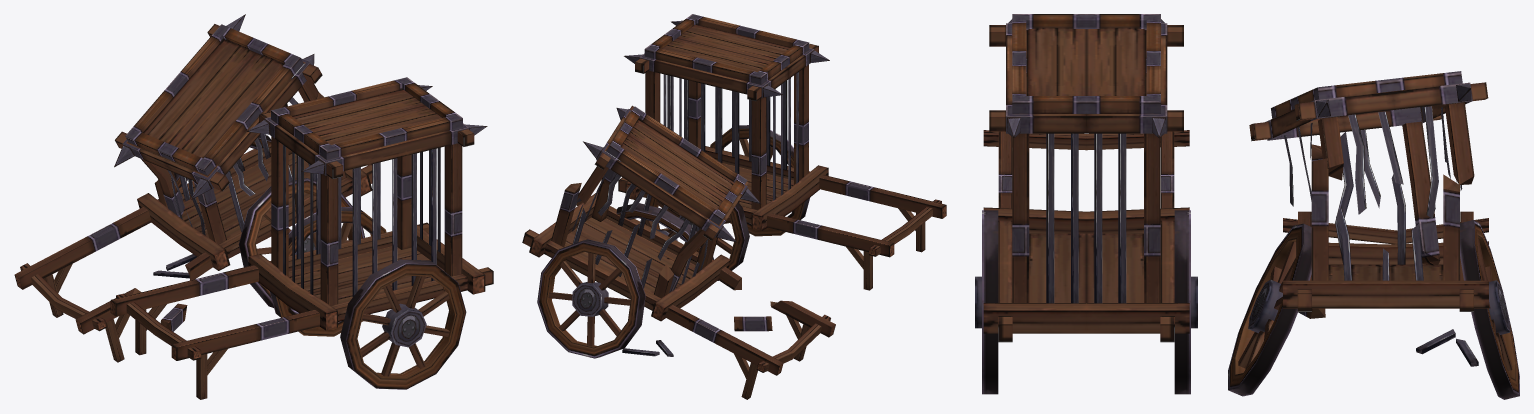
The model's file is 2_WGJ_QiuChe_01.FBX.
The picture shows the model from 3 angles, left to right: view 1: azimuth 30°, elevation 25°; view 2: azimuth 150°, elevation 25°; view 3: azimuth 270°, elevation 25°; orthographic projection. The views are drawn at different scales.
Visible parts, largest first — view 1: 2_WGJ_QiuChe_01, 2_WGJ_QiuChe_02; view 2: 2_WGJ_QiuChe_02, 2_WGJ_QiuChe_01; view 3: 2_WGJ_QiuChe_01, 2_WGJ_QiuChe_02.
Part boxes in pixels (left/top/right/bottom): 2_WGJ_QiuChe_01: left=110, top=77, right=493, bottom=399; 2_WGJ_QiuChe_02: left=14, top=14, right=372, bottom=362; 2_WGJ_QiuChe_02: left=522, top=105, right=835, bottom=399; 2_WGJ_QiuChe_01: left=618, top=14, right=946, bottom=290; 2_WGJ_QiuChe_01: left=975, top=14, right=1197, bottom=394; 2_WGJ_QiuChe_02: left=1228, top=71, right=1519, bottom=399.
Bounding box in the file's own units: 493 × 395 × 553.
